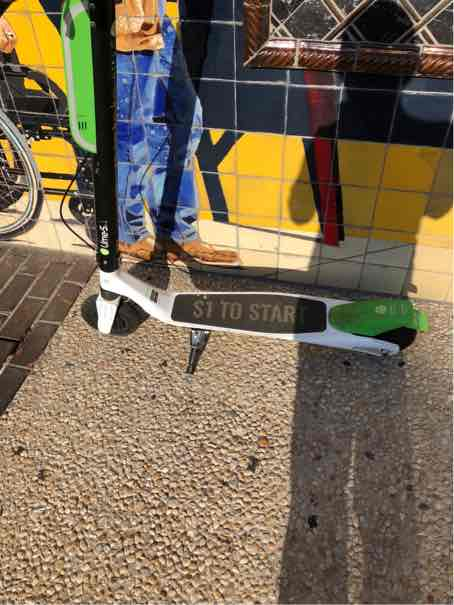scooter: (6, 9, 429, 360)
